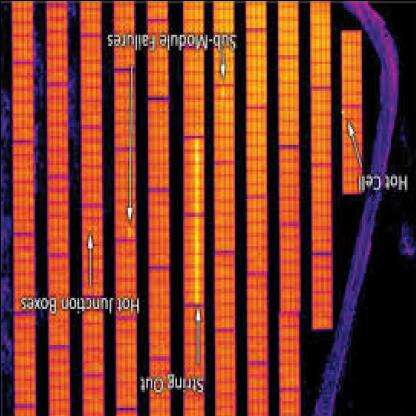Defects: (192, 135, 202, 301), (218, 79, 226, 103)
